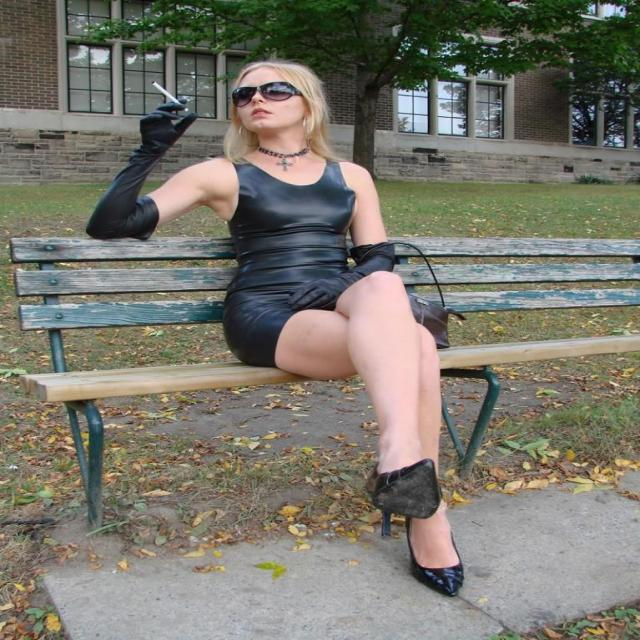Сигарета: (152, 81, 190, 110)
Тело: (91, 61, 468, 592)
